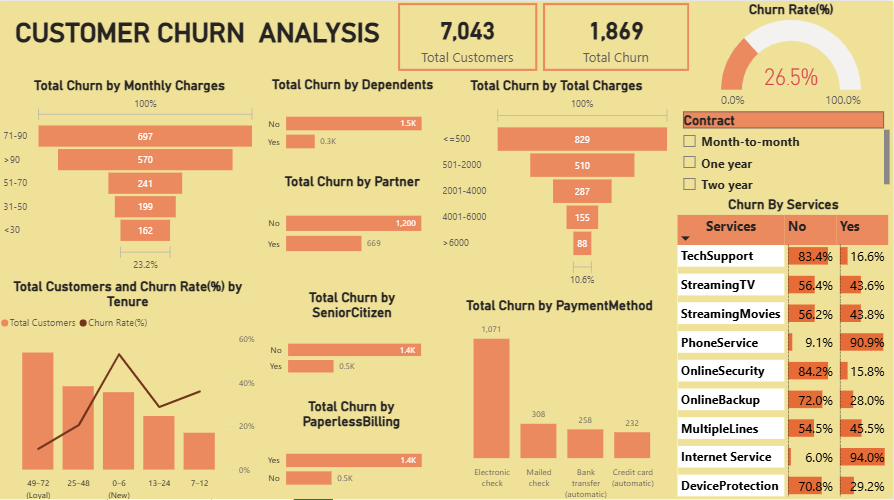

The page's visual inventory and layout, read from the dashboard file:
{"tool":"powerbi","page":{"name":"Summmary","canvas":[1280,720],"ordinal":0},"visuals":[{"type":"card","fields":{"Values":["Table measure.Total Customers"]},"box":[572.9,2.9,198.6,97.1],"z":0},{"type":"card","fields":{"Values":["Table measure.Total Churn"]},"box":[780,2.9,208.6,97.1],"z":1000},{"type":"gauge","fields":{"Y":["Table measure.Churn Rate(%)","select"]},"box":[988.6,0,291.4,162.9],"z":2000},{"type":"barChart","fields":{"Category":["WA_Fn-UseC_-Telco-Customer-Churn.PaperlessBilling"],"Y":["Table measure.Total Churn"]},"box":[380,567.5,252.5,152.5],"z":3000},{"type":"slicer","fields":{"Values":["WA_Fn-UseC_-Telco-Customer-Churn.Contract"]},"box":[967.1,152.9,312.9,125.7],"z":4000},{"type":"lineClusteredColumnComboChart","fields":{"Category":["WA_Fn-UseC_-Telco-Customer-Churn.Tenure"],"Y":["Table measure.Total Customers"],"Y2":["Table measure.Churn Rate(%)"]},"box":[0,395,373.8,325],"z":5000},{"type":"clusteredColumnChart","fields":{"Category":["WA_Fn-UseC_-Telco-Customer-Churn.PaymentMethod"],"Y":["Table measure.Total Churn"]},"box":[640,422.9,327.1,297.1],"z":6000},{"type":"funnel","fields":{"Category":["WA_Fn-UseC_-Telco-Customer-Churn.Total Charges"],"Y":["Table measure.Total Churn"]},"box":[631.4,108.6,335.7,304.3],"z":7000},{"type":"pivotTable","title":"Churn By Services","fields":{"Rows":["Service.Services"],"Columns":["Service.Status"],"Values":["Sum(Service.Churn Status)"]},"box":[967.1,278.6,312.9,441.4],"z":8000},{"type":"clusteredBarChart","fields":{"Category":["WA_Fn-UseC_-Telco-Customer-Churn.SeniorCitizen"],"Y":["Table measure.Total Churn"]},"box":[382.5,411.2,248.8,146.2],"z":9000},{"type":"barChart","fields":{"Category":["WA_Fn-UseC_-Telco-Customer-Churn.Dependents"],"Y":["Table measure.Total Churn"]},"box":[380,107.5,256.2,132.5],"z":10000},{"type":"barChart","fields":{"Category":["WA_Fn-UseC_-Telco-Customer-Churn.Partner"],"Y":["Table measure.Total Churn"]},"box":[380,245,255,143.8],"z":11000},{"type":"textbox","box":[0,0,572.9,101.4],"z":12000},{"type":"funnel","fields":{"Category":["WA_Fn-UseC_-Telco-Customer-Churn.Monthly Charges"],"Y":["Table measure.Total Churn"]},"box":[4.3,108.6,370,281.4],"z":13000}]}

Visuals, with their boxes in screenshot pixels (x1, y1, x2, y2), scaled from the page's 1280x720 canvas onto the 894x500 screenshot:
card - Table measure.Total Customers: l=400, t=2, r=539, b=69
card - Table measure.Total Churn: l=545, t=2, r=690, b=69
gauge - Table measure.Churn Rate(%) x select: l=690, t=0, r=893, b=113
barChart - WA_Fn-UseC_-Telco-Customer-Churn.PaperlessBilling x Table measure.Total Churn: l=265, t=394, r=442, b=499
slicer - WA_Fn-UseC_-Telco-Customer-Churn.Contract: l=675, t=106, r=893, b=193
lineClusteredColumnComboChart - WA_Fn-UseC_-Telco-Customer-Churn.Tenure x Table measure.Total Customers: l=0, t=274, r=261, b=499
clusteredColumnChart - WA_Fn-UseC_-Telco-Customer-Churn.PaymentMethod x Table measure.Total Churn: l=447, t=294, r=675, b=499
funnel - WA_Fn-UseC_-Telco-Customer-Churn.Total Charges x Table measure.Total Churn: l=441, t=75, r=675, b=287
"Churn By Services" pivotTable: l=675, t=193, r=893, b=499
clusteredBarChart - WA_Fn-UseC_-Telco-Customer-Churn.SeniorCitizen x Table measure.Total Churn: l=267, t=286, r=441, b=387
barChart - WA_Fn-UseC_-Telco-Customer-Churn.Dependents x Table measure.Total Churn: l=265, t=75, r=444, b=167
barChart - WA_Fn-UseC_-Telco-Customer-Churn.Partner x Table measure.Total Churn: l=265, t=170, r=444, b=270
textbox: l=0, t=0, r=400, b=70
funnel - WA_Fn-UseC_-Telco-Customer-Churn.Monthly Charges x Table measure.Total Churn: l=3, t=75, r=261, b=271
